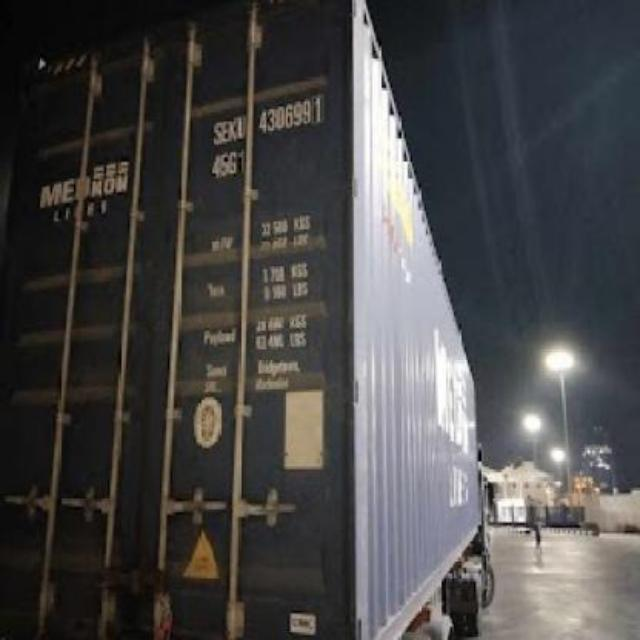0: (274, 102, 284, 134)
1: (312, 91, 326, 131)
3: (266, 102, 274, 134)
4: (258, 104, 266, 136)
6: (284, 91, 292, 135)
9: (292, 93, 302, 133), (300, 93, 310, 131)
E: (220, 112, 230, 146)
K: (228, 106, 236, 144)
U: (236, 110, 246, 144), (210, 115, 220, 148)
